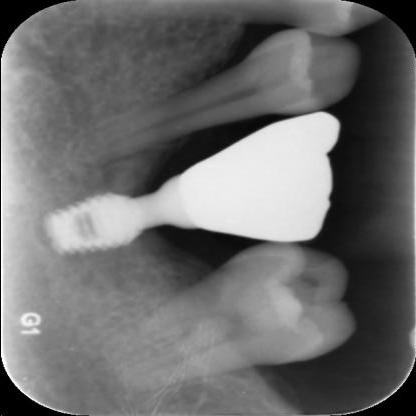Bicon: (30, 158, 172, 282)
